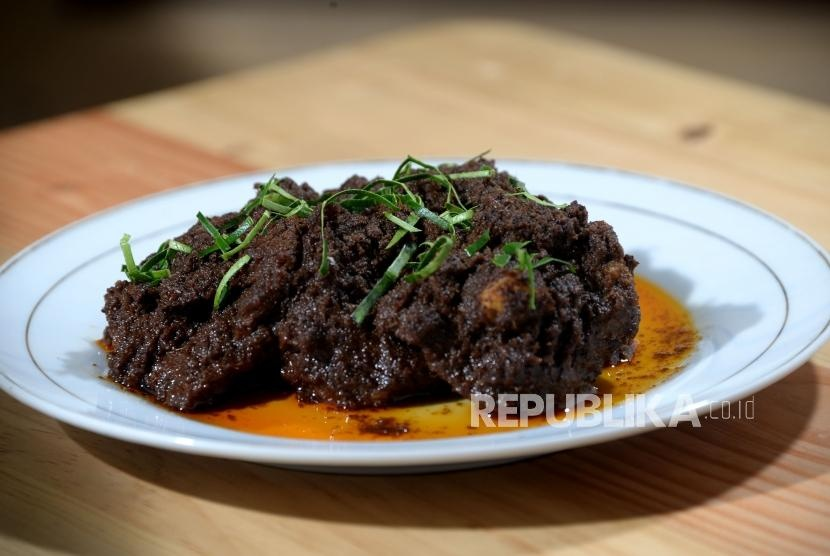rendang: (83, 157, 650, 398)
